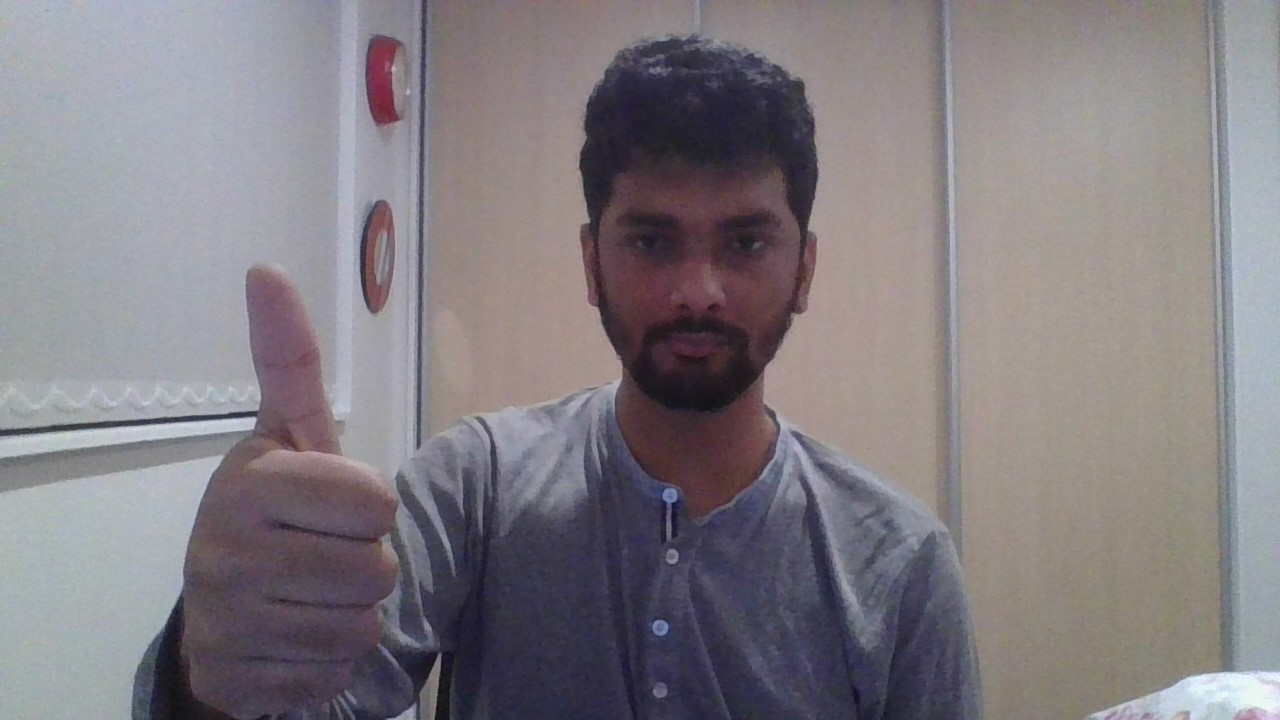good: (181, 263, 397, 715)
